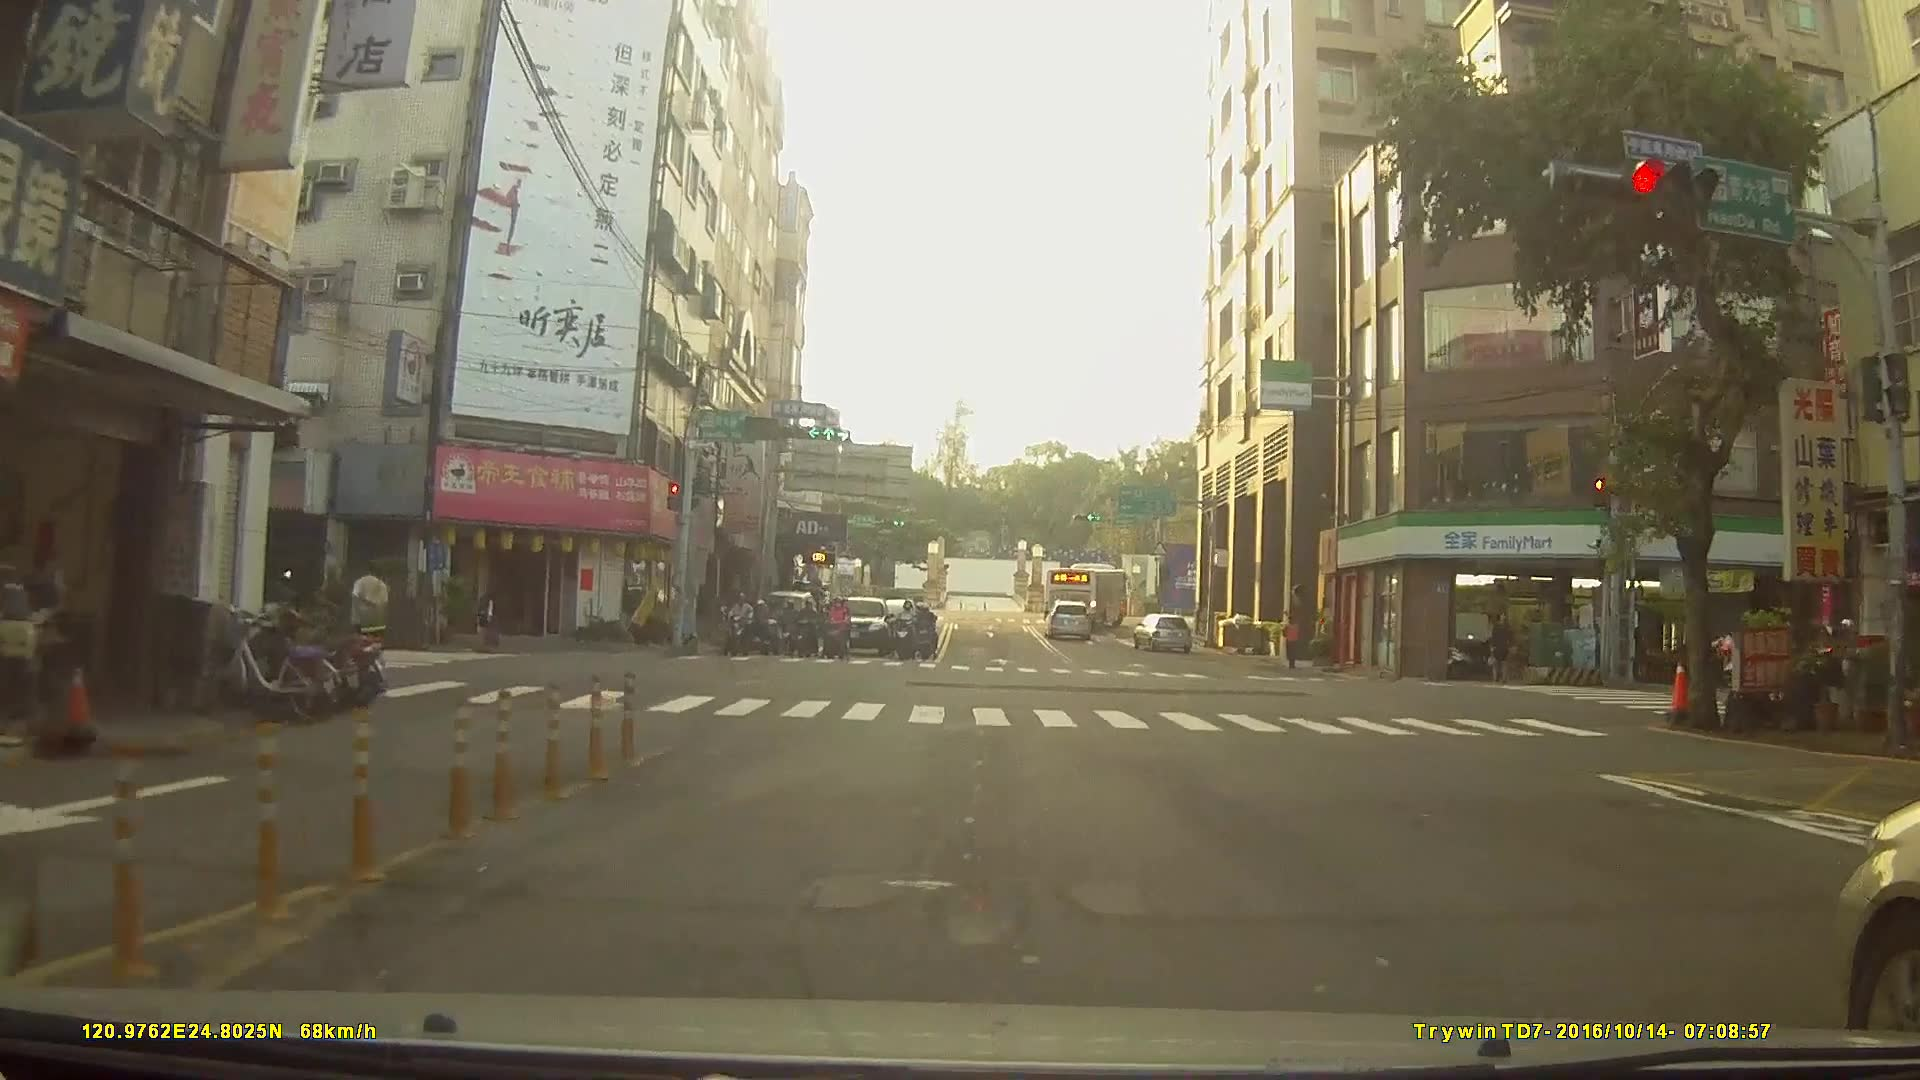pedestrian: (347, 555, 391, 679), (1489, 608, 1513, 688), (478, 595, 504, 655), (1283, 616, 1304, 673)
rider: (723, 596, 756, 663), (822, 601, 853, 669), (792, 605, 821, 663), (760, 594, 788, 651), (894, 598, 918, 664), (917, 604, 942, 664)
vehicle: (1043, 561, 1130, 625), (826, 592, 893, 658), (1131, 613, 1193, 653), (1044, 599, 1095, 641)
